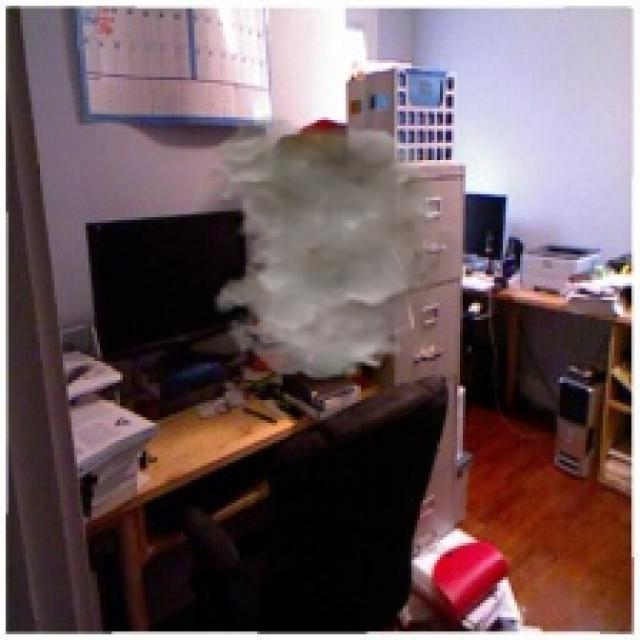Smoke: (206, 114, 474, 380)
